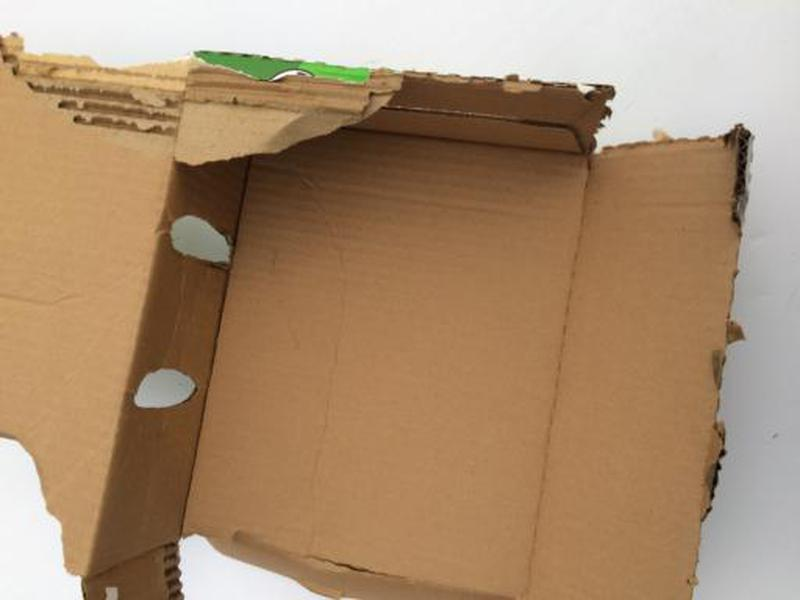cardboard: (1, 25, 759, 600)
